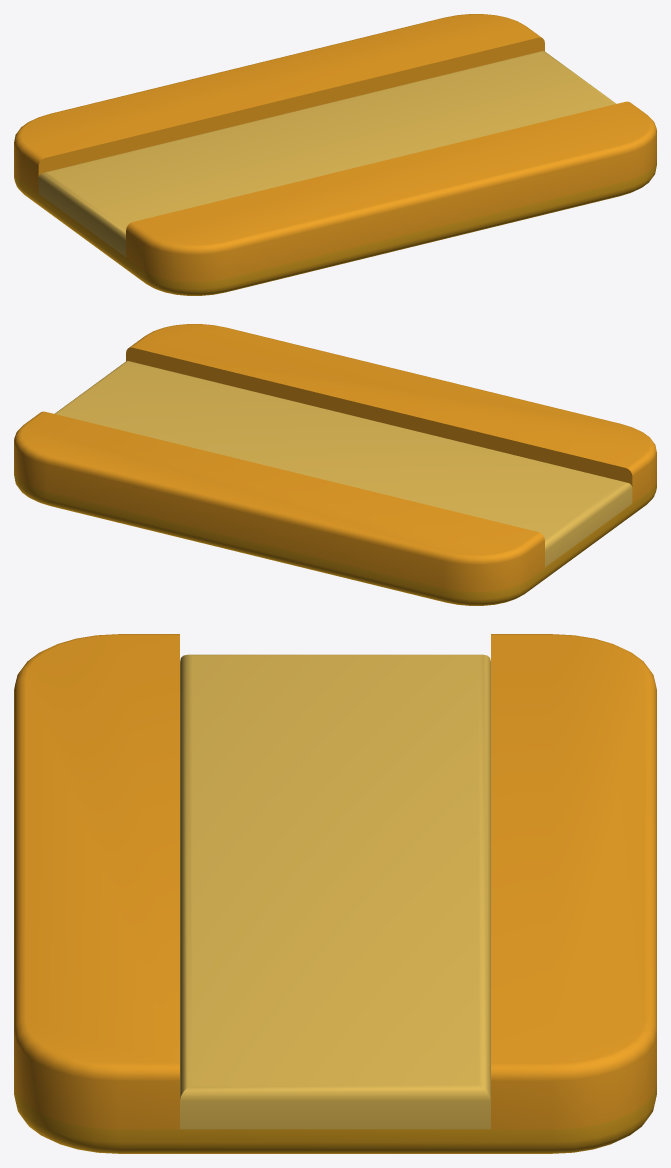
Rendered from Button_Horizontal_v1.fbx.
3 renders of one model, top to bottom at view 1: azimuth 30°, elevation 25°; view 2: azimuth 150°, elevation 25°; view 3: azimuth 270°, elevation 25°, orthographic. The views are drawn at different scales.
Visible parts, largest first — view 1: Down2, Center2, Up2, Base2; view 2: Up2, Center2, Down2, Base2; view 3: Center2, Down2, Up2, Base2.
Part boxes in pixels (x1,y1,x2,y2): Down2: (126, 101, 656, 281); Center2: (38, 50, 616, 257); Up2: (14, 14, 544, 193); Base2: (14, 158, 656, 295); Up2: (14, 411, 544, 591); Center2: (54, 360, 632, 567); Down2: (126, 324, 656, 503); Base2: (14, 468, 656, 605); Center2: (180, 654, 490, 1129); Down2: (14, 634, 179, 1129); Up2: (491, 634, 656, 1129); Base2: (14, 1082, 656, 1153).
Bounding box in the file's own units: 467 × 45.41 × 289.
